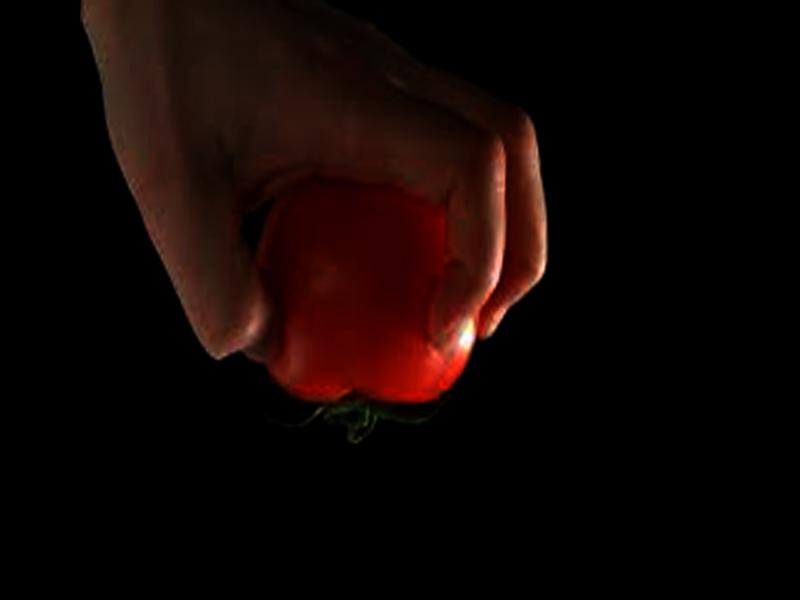Tomato: (249, 182, 480, 443)
